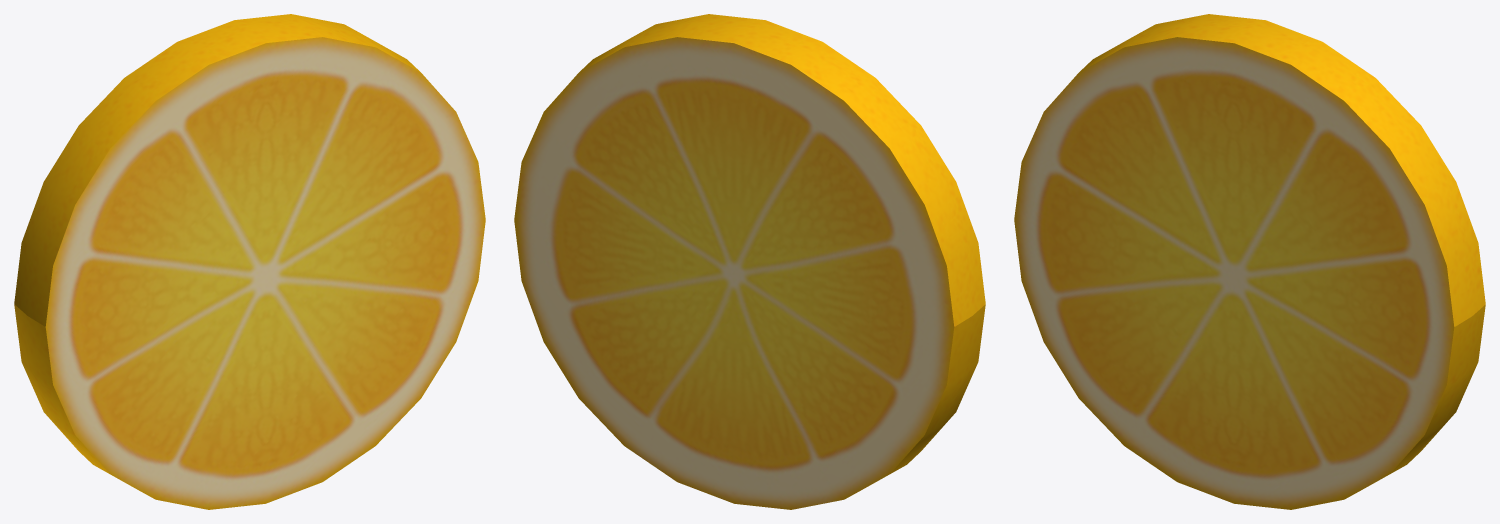
Rendered from LemonSlice_1.fbx.
3 views of the same model, side by side, from view 1: azimuth 30°, elevation 25°; view 2: azimuth 150°, elevation 25°; view 3: azimuth 330°, elevation 25° (orthographic).
Parts seen in each view (by area): view 1: LemonSlice_1; view 2: LemonSlice_1; view 3: LemonSlice_1.
Part boxes in pixels (x1,y1,x2,y2): LemonSlice_1: (14,14,485,509); LemonSlice_1: (514,14,985,509); LemonSlice_1: (1014,14,1485,509).
Bounding box in the file's own units: 0.0595 × 0.0595 × 0.00752.
Materials: 1 (1 with a texture image).
